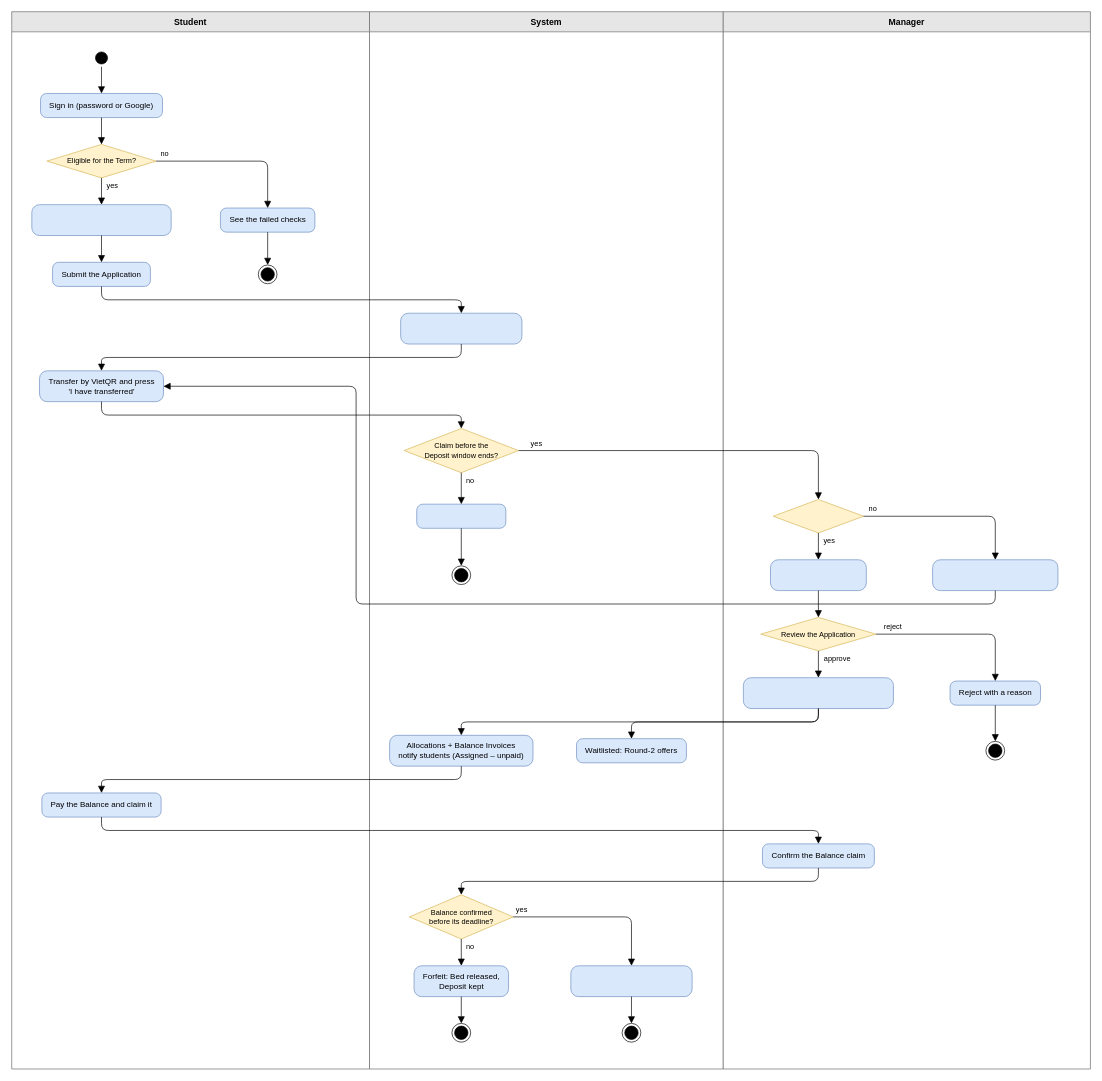
Some shapes in this 1102 by 1081 pixel diagram are drawn without their labels. Each missing label, with the centre of its shape:
"Application: Awaiting Deposit Deposit Invoice due in 48 h" goes at [461,328].
"Application: Expired" goes at [461,516].
"Choose Room Type, Room Class, roommate, Gia hạn; accept rules" goes at [101,220].
"Confirm the claim: Application Submitted" goes at [818,575].
"Reject the claim with a reason (time continues)" goes at [995,575].
"Release the door code at the check-in start (Resident)" goes at [631,981].
"Run the assignment after M3, resolve conflicts, approve each Block" goes at [818,693].
"Transfer found?" goes at [818,516].
